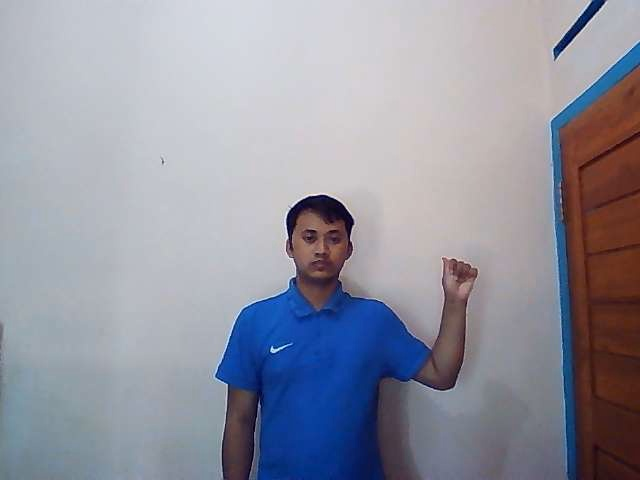A: (440, 256, 478, 299)
